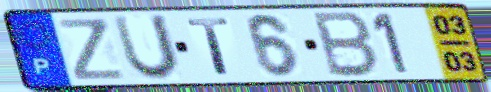1: (369, 11, 414, 76)
6: (246, 12, 302, 80)
B: (311, 10, 381, 80)
T: (184, 16, 234, 77)
U: (109, 13, 184, 84)
Z: (55, 16, 130, 82)
